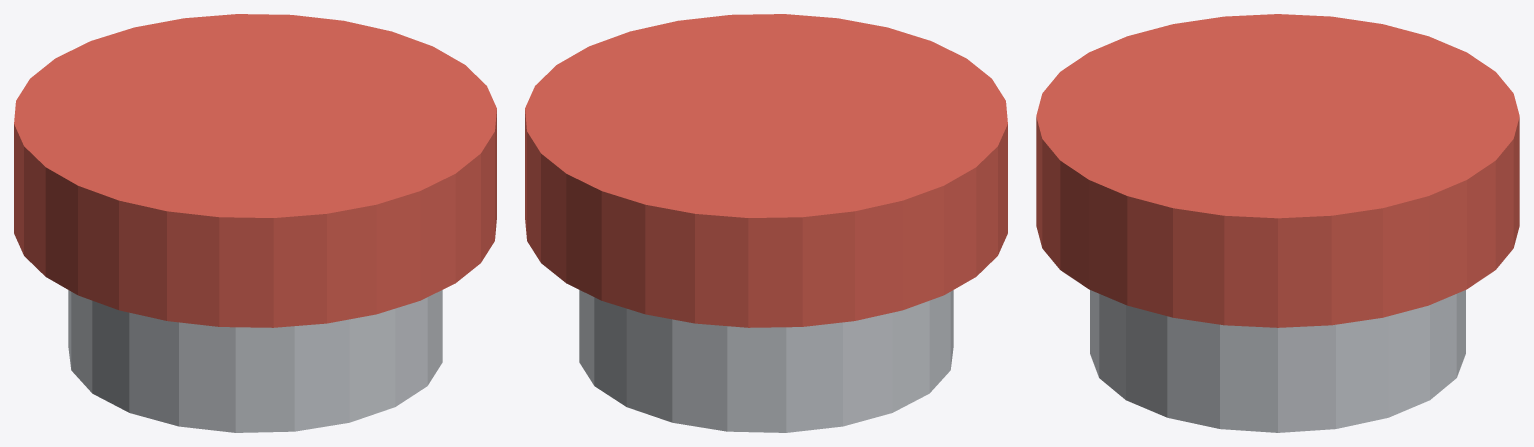
Rendered from slam_button_cap.glb.
3 renders of one model, left to right at view 1: azimuth 30°, elevation 25°; view 2: azimuth 150°, elevation 25°; view 3: azimuth 270°, elevation 25°, orthographic.
Visible parts, largest first — view 1: MushroomCap, PlungerStem; view 2: MushroomCap, PlungerStem; view 3: MushroomCap, PlungerStem.
Boxes of the visible parts, x1,y1,x2,y2 form: MushroomCap: (14,14,496,327); PlungerStem: (68,290,442,432); MushroomCap: (525,14,1007,327); PlungerStem: (579,290,953,432); MushroomCap: (1036,14,1519,327); PlungerStem: (1090,290,1465,432).
Bounding box in the file's own units: 0.072 × 0.039 × 0.072.
